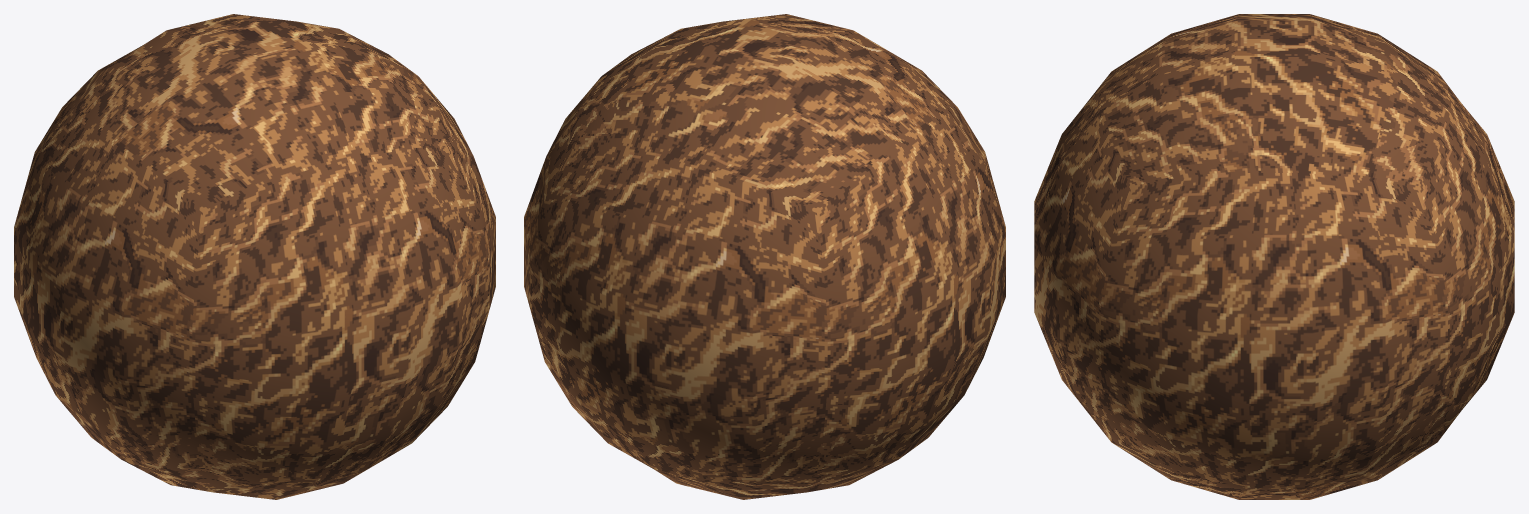
The model's file is marron.glb.
3 views of the same model, side by side, from view 1: azimuth 30°, elevation 25°; view 2: azimuth 150°, elevation 25°; view 3: azimuth 270°, elevation 25° (orthographic).
Visible parts, largest first — view 1: Asset3DLoader.sceneRoot; view 2: Asset3DLoader.sceneRoot; view 3: Asset3DLoader.sceneRoot.
Boxes of the visible parts, x1,y1,x2,y2 form: Asset3DLoader.sceneRoot: [14, 14, 495, 499]; Asset3DLoader.sceneRoot: [524, 14, 1005, 499]; Asset3DLoader.sceneRoot: [1034, 14, 1514, 499].
Size of the model in its own units: 3.36 by 3.36 by 3.36.
1 material, 1 textured.
